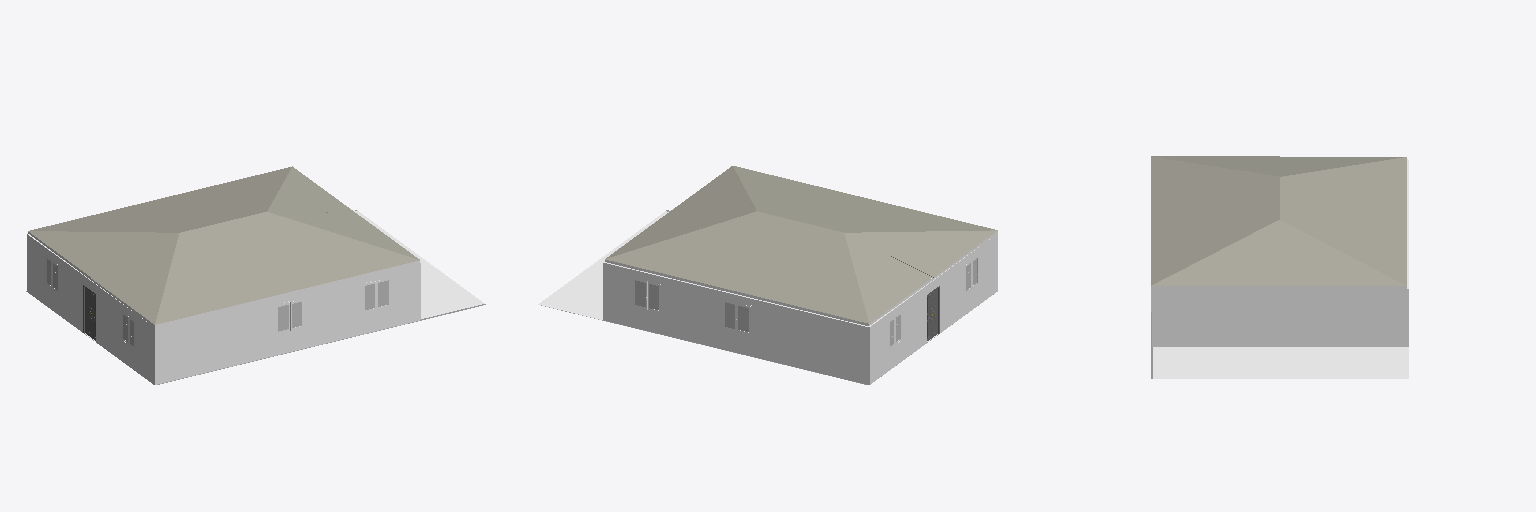
Rendered from DERV_7_U1_Tarea 5 estructuras.obj.
3 views of the same model, side by side, from view 1: azimuth 30°, elevation 25°; view 2: azimuth 150°, elevation 25°; view 3: azimuth 270°, elevation 25° (orthographic).
Parts seen in each view (by area): view 1: PolyMesh_1_None_None_1_646, wall_3_16, PolyMesh_1_None_None_1_647, wall_4_22, room_18_74, room_17_73; view 2: PolyMesh_1_None_None_1_647, wall_1_4, PolyMesh_1_None_None_1_646, wall_4_22, room_18_74, room_17_73; view 3: PolyMesh_1_None_None_1_646, PolyMesh_1_None_None_1_647, wall_2_11, room_18_74, room_17_73.
Boxes of the visible parts, x1,y1,x2,y2 form: PolyMesh_1_None_None_1_646: [91, 212, 419, 324]; wall_3_16: [155, 263, 420, 384]; PolyMesh_1_None_None_1_647: [28, 166, 354, 276]; wall_4_22: [27, 234, 154, 384]; room_18_74: [354, 210, 484, 318]; room_17_73: [28, 232, 419, 326]; PolyMesh_1_None_None_1_647: [605, 211, 932, 323]; wall_1_4: [603, 263, 868, 384]; PolyMesh_1_None_None_1_646: [669, 166, 997, 277]; wall_4_22: [869, 234, 997, 384]; room_18_74: [538, 211, 668, 319]; room_17_73: [605, 231, 997, 325]; PolyMesh_1_None_None_1_646: [1151, 156, 1279, 285]; PolyMesh_1_None_None_1_647: [1280, 157, 1406, 285]; wall_2_11: [1152, 289, 1408, 346]; room_18_74: [1153, 347, 1408, 378]; room_17_73: [1152, 286, 1406, 288].
Bounding box in the file's own units: 1500 × 362 × 1014.